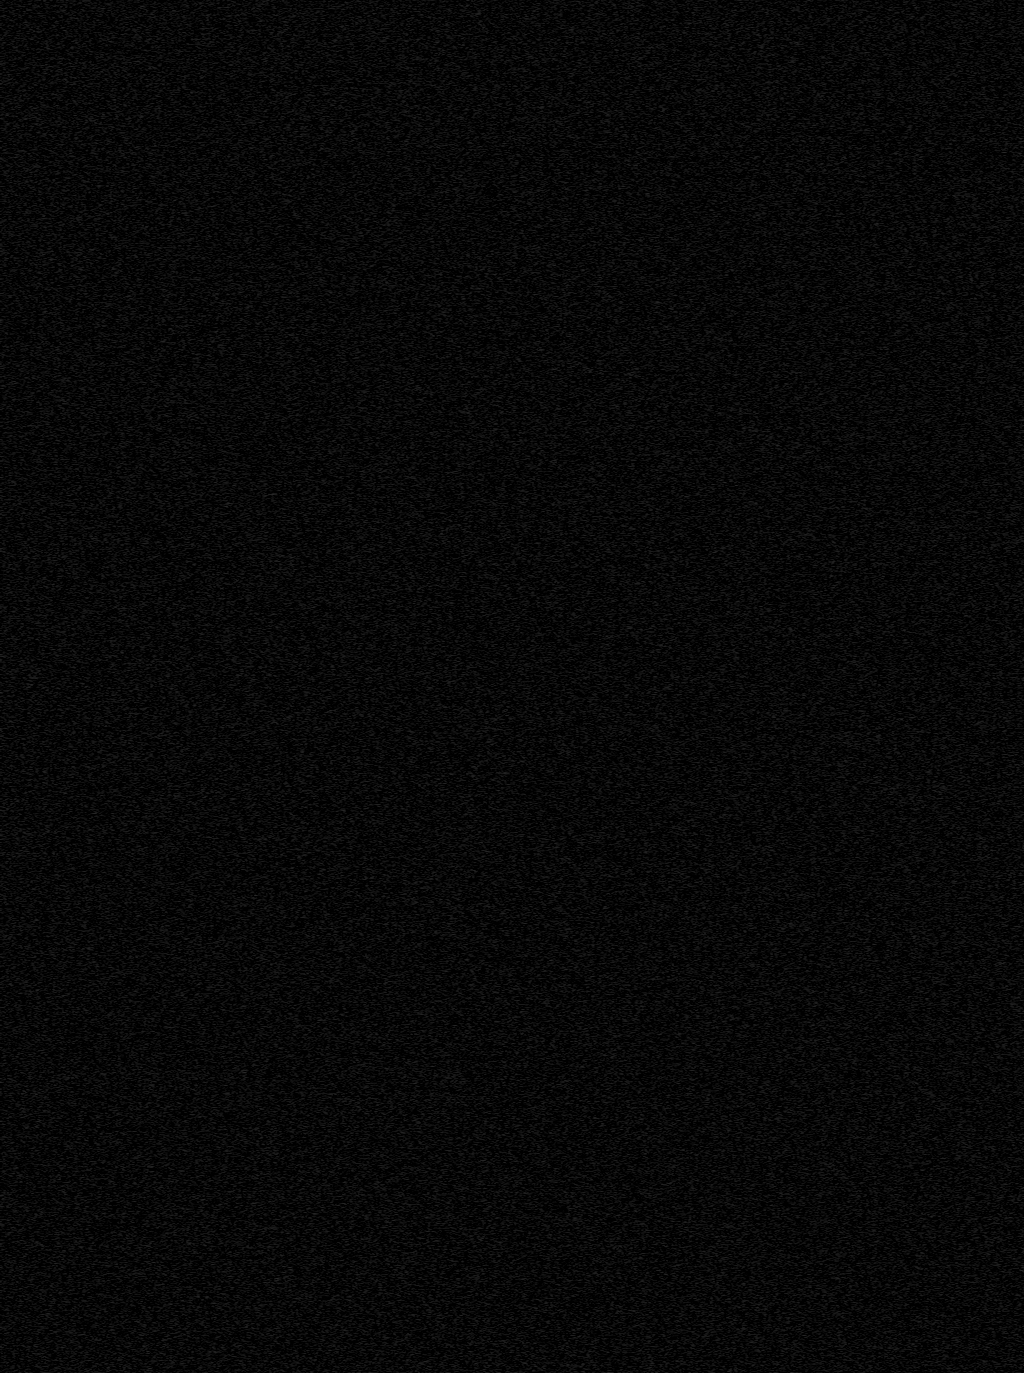wv_cw: (752, 0, 758, 1372), (733, 0, 739, 1372)
wv_lsb: (665, 1198, 670, 1372), (665, 939, 670, 1074), (665, 349, 670, 441), (665, 659, 670, 745), (665, 587, 670, 632), (665, 891, 670, 934), (665, 746, 670, 780), (665, 633, 670, 658), (665, 807, 670, 831), (665, 841, 670, 861), (666, 782, 670, 806), (666, 533, 669, 561), (666, 481, 669, 507), (665, 85, 670, 101), (665, 869, 670, 885), (666, 452, 669, 474), (666, 512, 669, 532), (666, 562, 669, 580), (665, 75, 670, 84), (666, 237, 669, 251), (666, 151, 669, 165), (666, 185, 669, 197), (666, 102, 669, 114), (666, 260, 669, 271), (666, 172, 669, 183), (666, 832, 670, 840), (666, 115, 669, 125), (666, 225, 669, 233), (666, 139, 669, 146), (665, 886, 670, 890), (666, 1191, 669, 1197), (666, 862, 669, 868), (666, 442, 669, 447), (666, 208, 669, 213), (666, 202, 669, 208), (666, 1081, 669, 1086), (666, 333, 669, 338), (666, 1162, 669, 1167), (666, 583, 669, 586), (666, 1187, 669, 1190), (666, 218, 669, 221), (666, 477, 669, 480), (666, 448, 669, 450), (666, 935, 669, 938)
wv_wbfm: (97, 0, 124, 1372)
